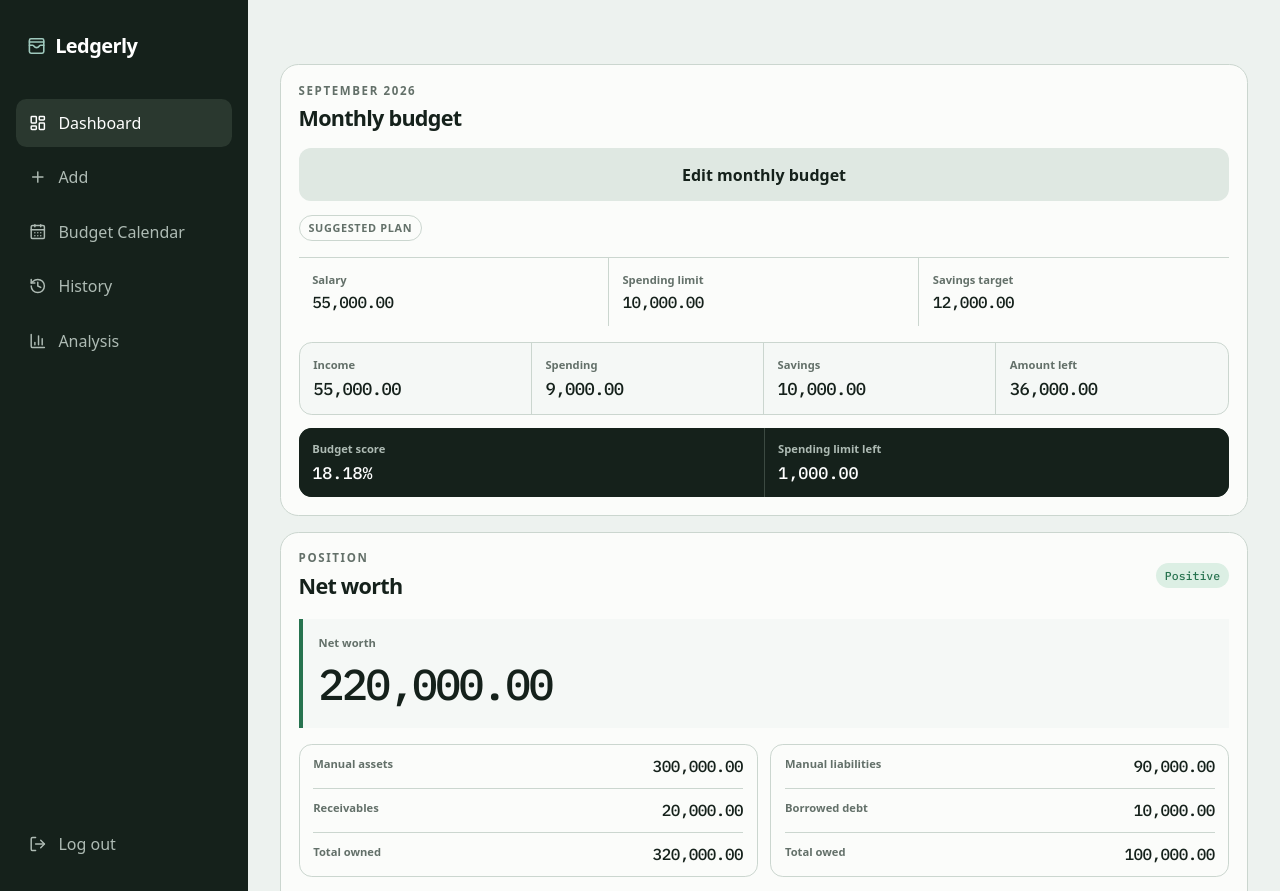
it: mobile money manager › edits the suggested budget inline and refreshes only monthly analysis after save
Click the button "Edit monthly budget" at (764, 175), box 299,148 -> 1229,201
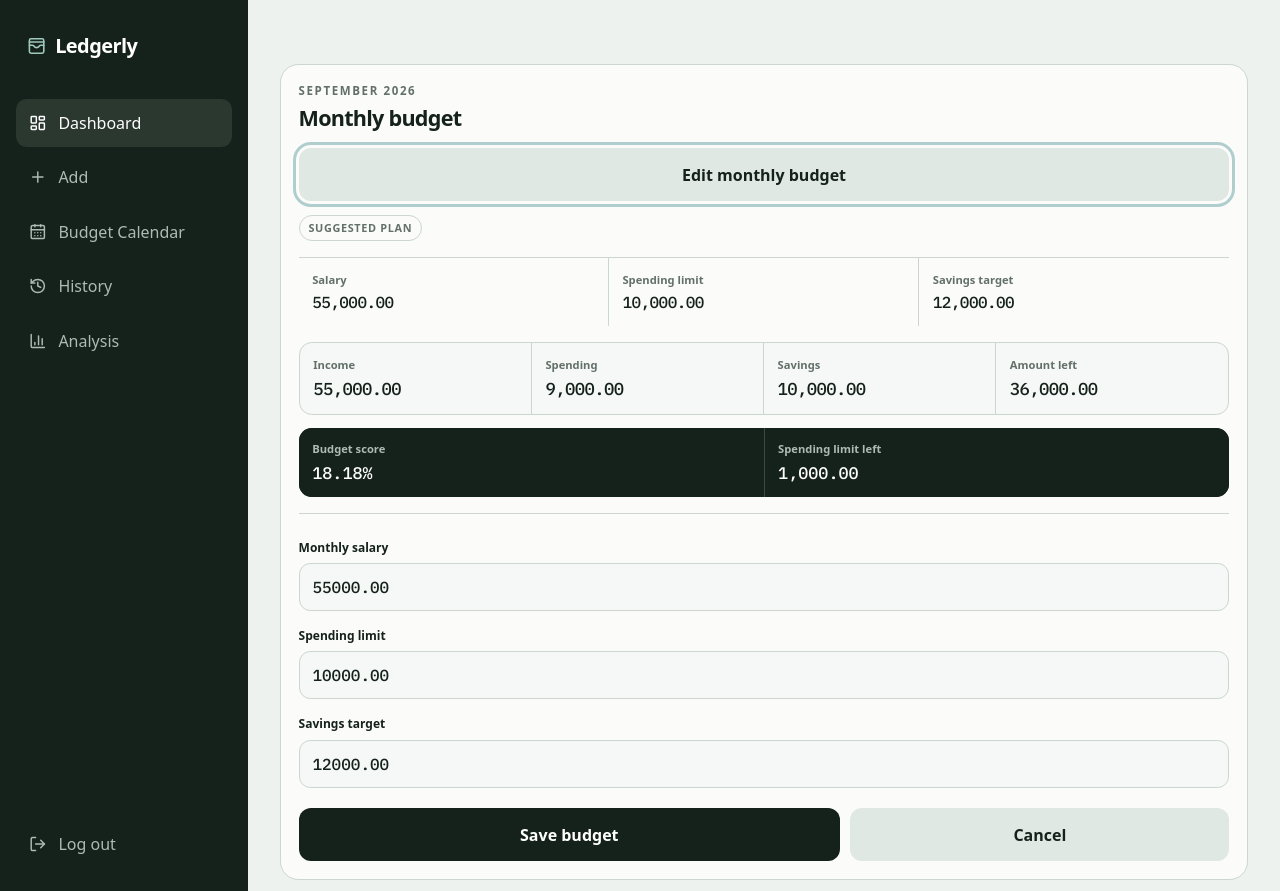
Expected: the form named "Edit monthly budget" is shown, 299,513 -> 1229,861
Expected: the field labelled "Monthly salary" holds "55000.00"
Expected: the field labelled "Spending limit" holds "10000.00", 299,652 -> 1229,700
Replace the text in the field labelled "Monthly salary" with "56000" at (764, 587), box 299,563 -> 1229,611
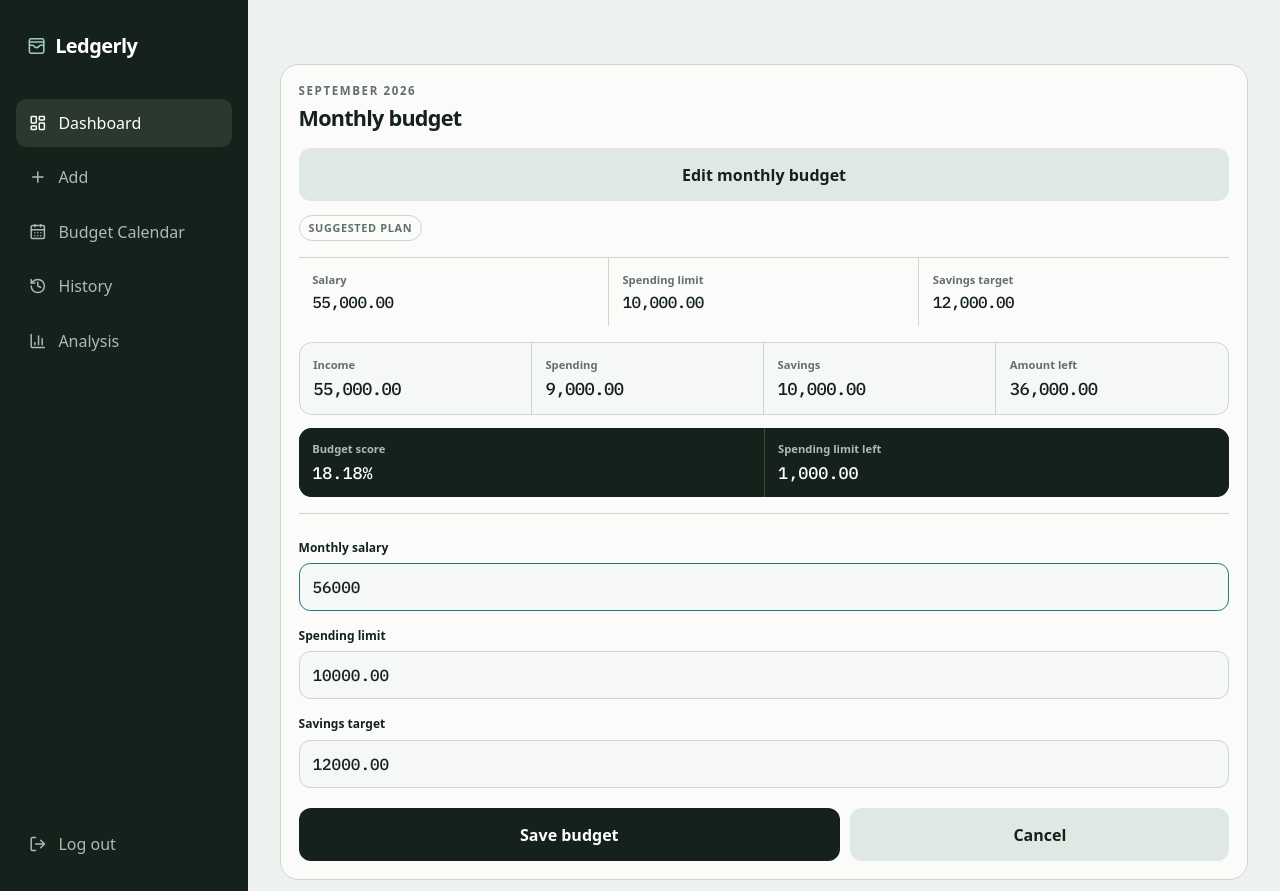
Click the button "Save budget" at (569, 835), box 299,808 -> 840,861
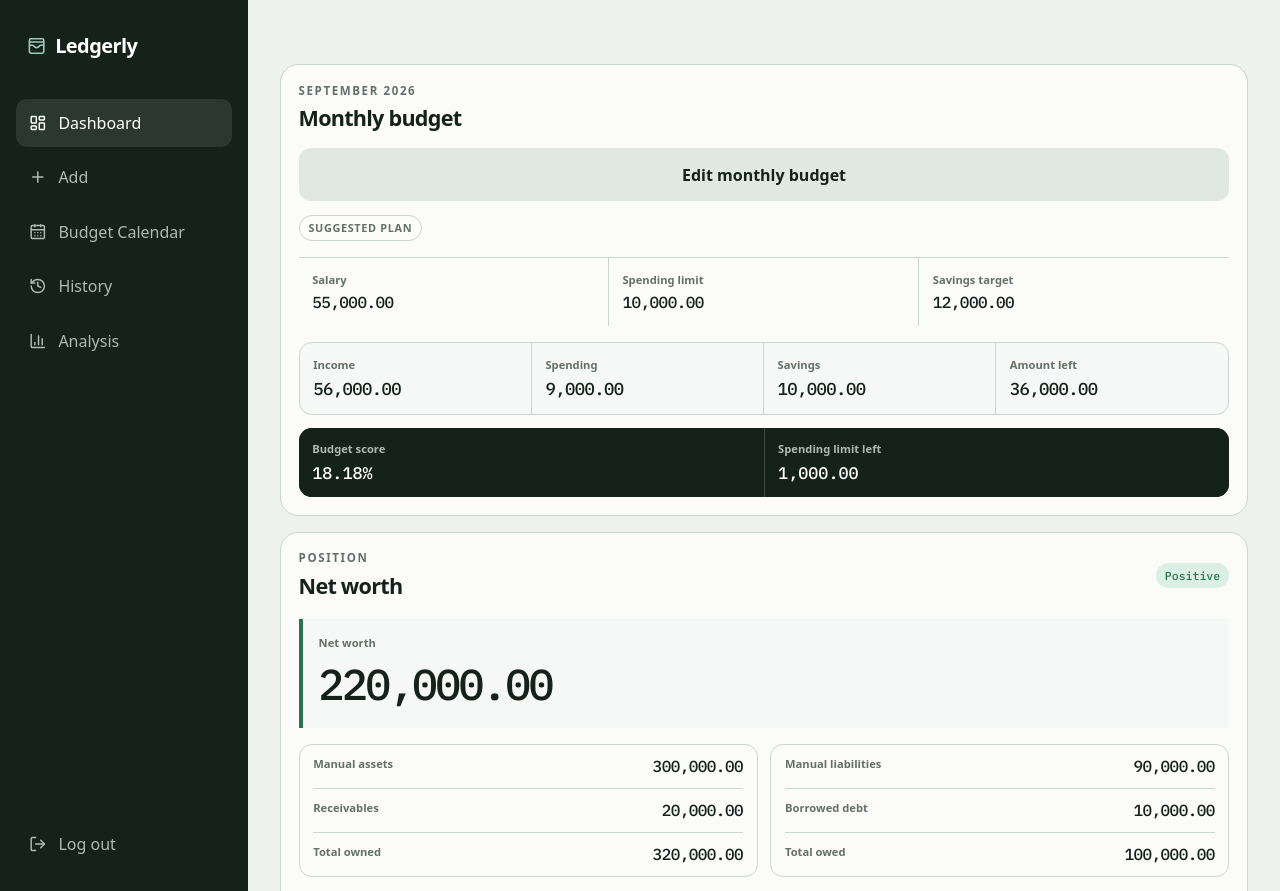
Expected: the element "Monthly budget" shows "56,000.00", 313,377 -> 401,400
